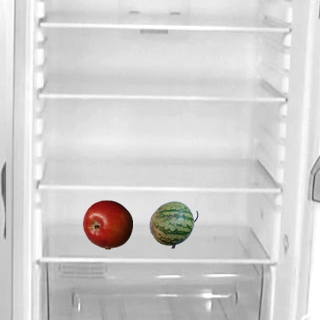Apple Braeburn: (82, 199, 132, 249)
Watermelon: (148, 199, 198, 249)
